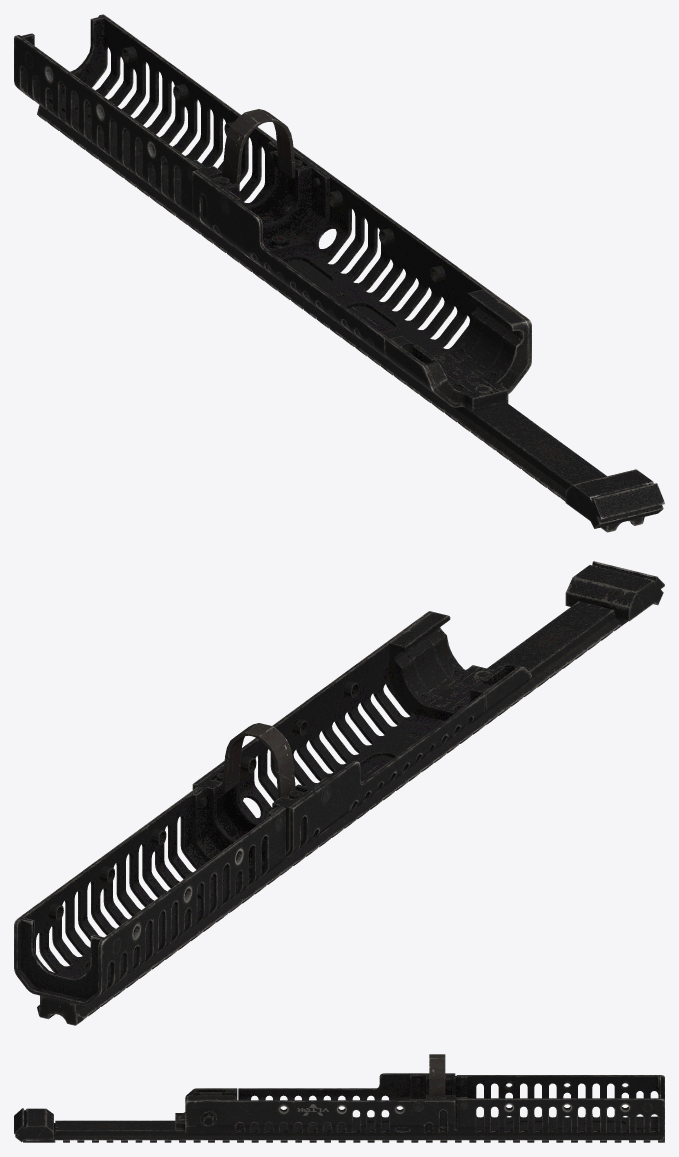
3 views of the same model, one above another, from view 1: azimuth 30°, elevation 25°; view 2: azimuth 150°, elevation 25°; view 3: azimuth 270°, elevation 25° (orthographic). The views are drawn at different scales.
Parts seen in each view (by area): view 1: TW_5addc00b5acfc4001669f144_PZ_Import; view 2: TW_5addc00b5acfc4001669f144_PZ_Import; view 3: TW_5addc00b5acfc4001669f144_PZ_Import.
Part boxes in pixels (x1,y1,x2,y2): TW_5addc00b5acfc4001669f144_PZ_Import: (14, 14, 664, 532); TW_5addc00b5acfc4001669f144_PZ_Import: (14, 561, 664, 1025); TW_5addc00b5acfc4001669f144_PZ_Import: (14, 1054, 664, 1142).
Size of the model in its own units: 0.0297 by 0.2592 by 0.0359.
Materials: 1 (1 with a texture image).
